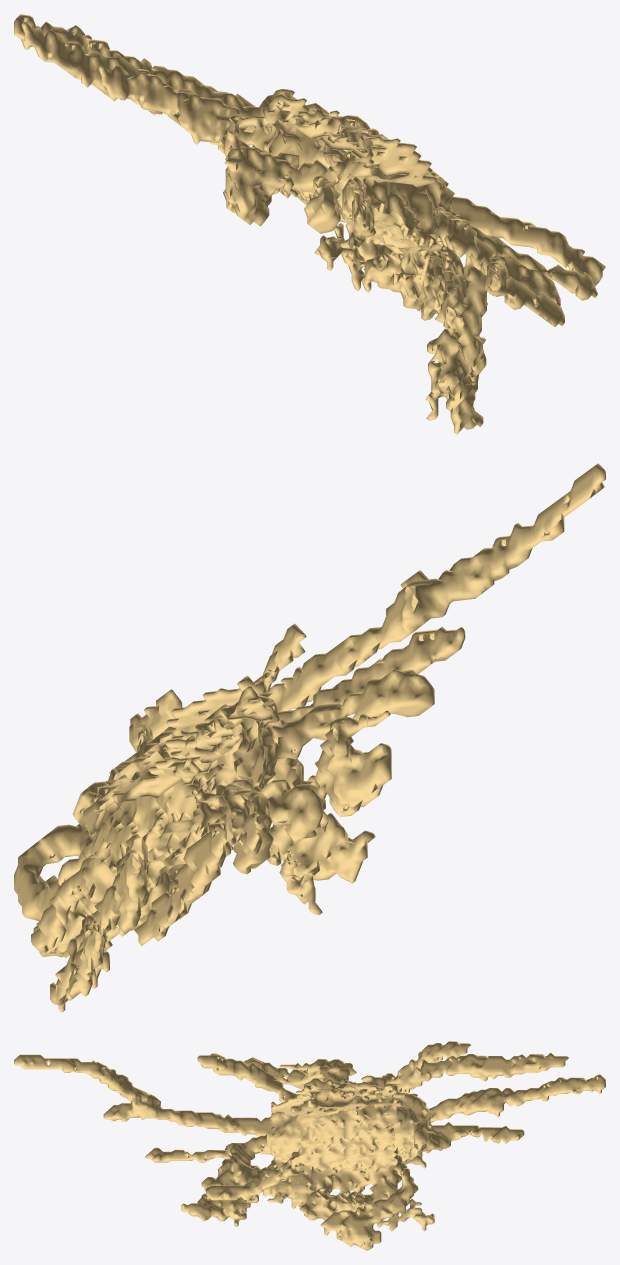
File: osteocyte_78.glb
3 renders of one model, top to bottom at view 1: azimuth 30°, elevation 25°; view 2: azimuth 150°, elevation 25°; view 3: azimuth 270°, elevation 25°, orthographic. The views are drawn at different scales.
Parts seen in each view (by area): view 1: osteocyte_78; view 2: osteocyte_78; view 3: osteocyte_78.
Part boxes in pixels (x1,y1,x2,y2): osteocyte_78: [14, 14, 605, 434]; osteocyte_78: [14, 463, 605, 1012]; osteocyte_78: [14, 1041, 605, 1250].
Size of the model in its own units: 23.11 by 20.22 by 69.81.
